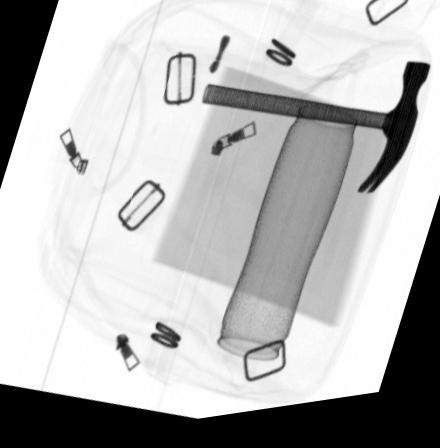Hammer: (200, 72, 432, 207)
